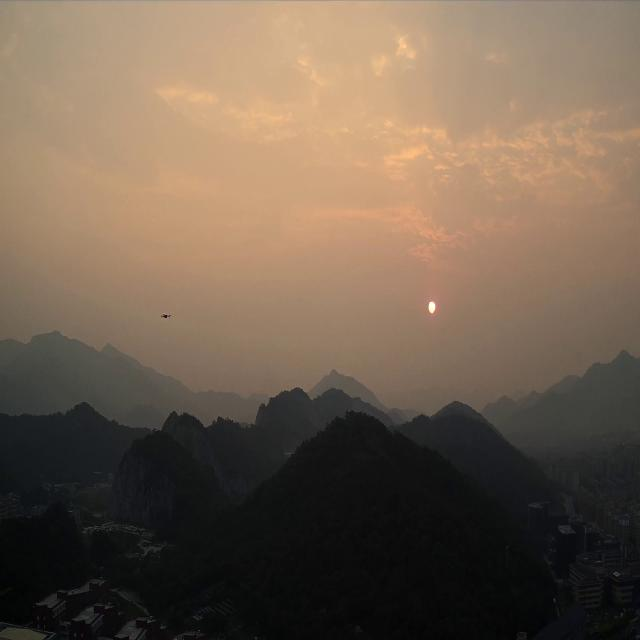drone: (160, 313, 172, 319)
